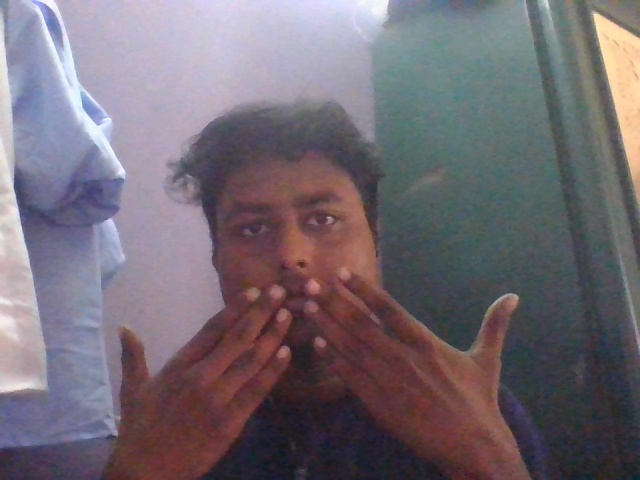thankyou: (94, 196, 538, 480)
